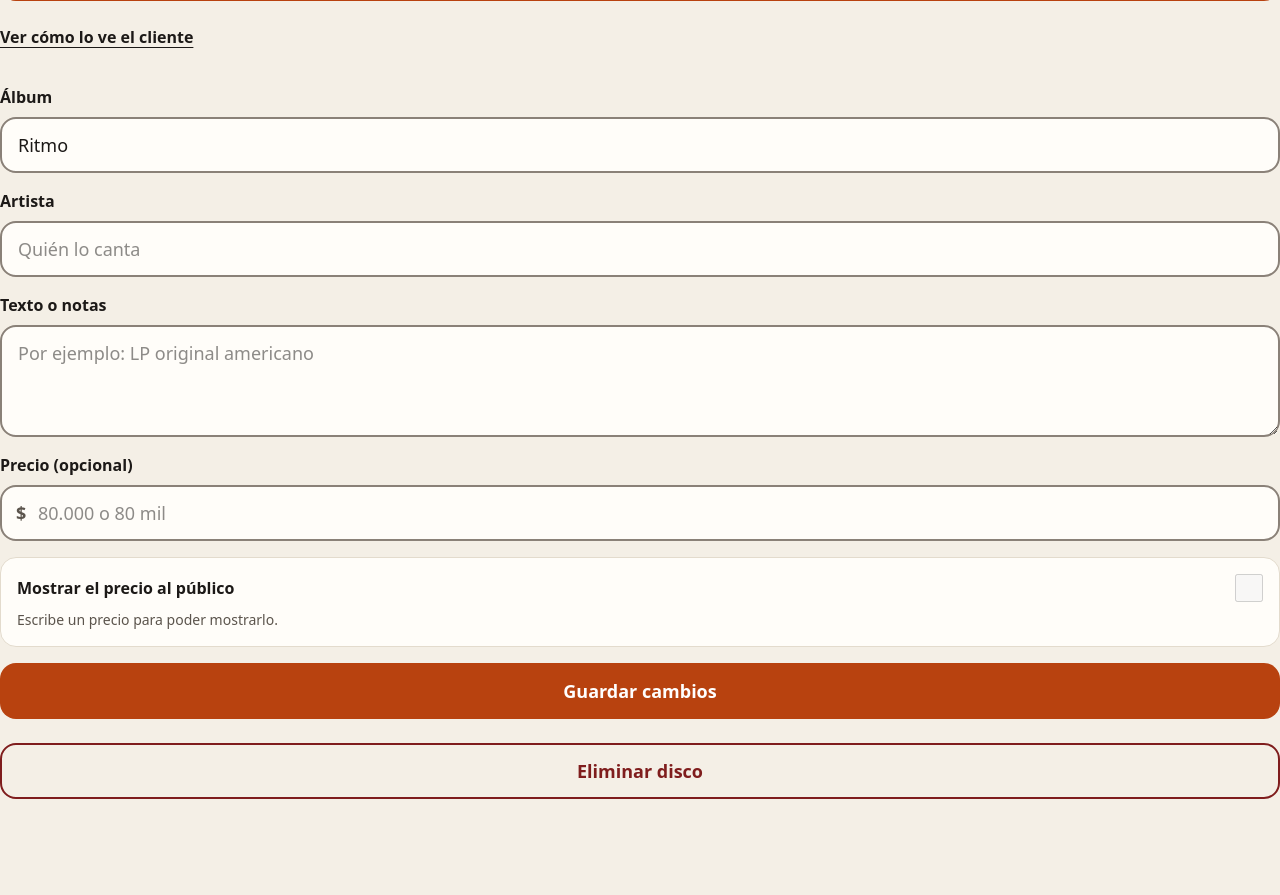
Test: RecordDetail › deleting the record › stays on the screen and explains when it could not be deleted
(page scrolled)
What coordinates should you click on to do the following:
click the button "Eliminar disco"
I would click on:
 (640, 771)
Its box is [0,743,1279,799].
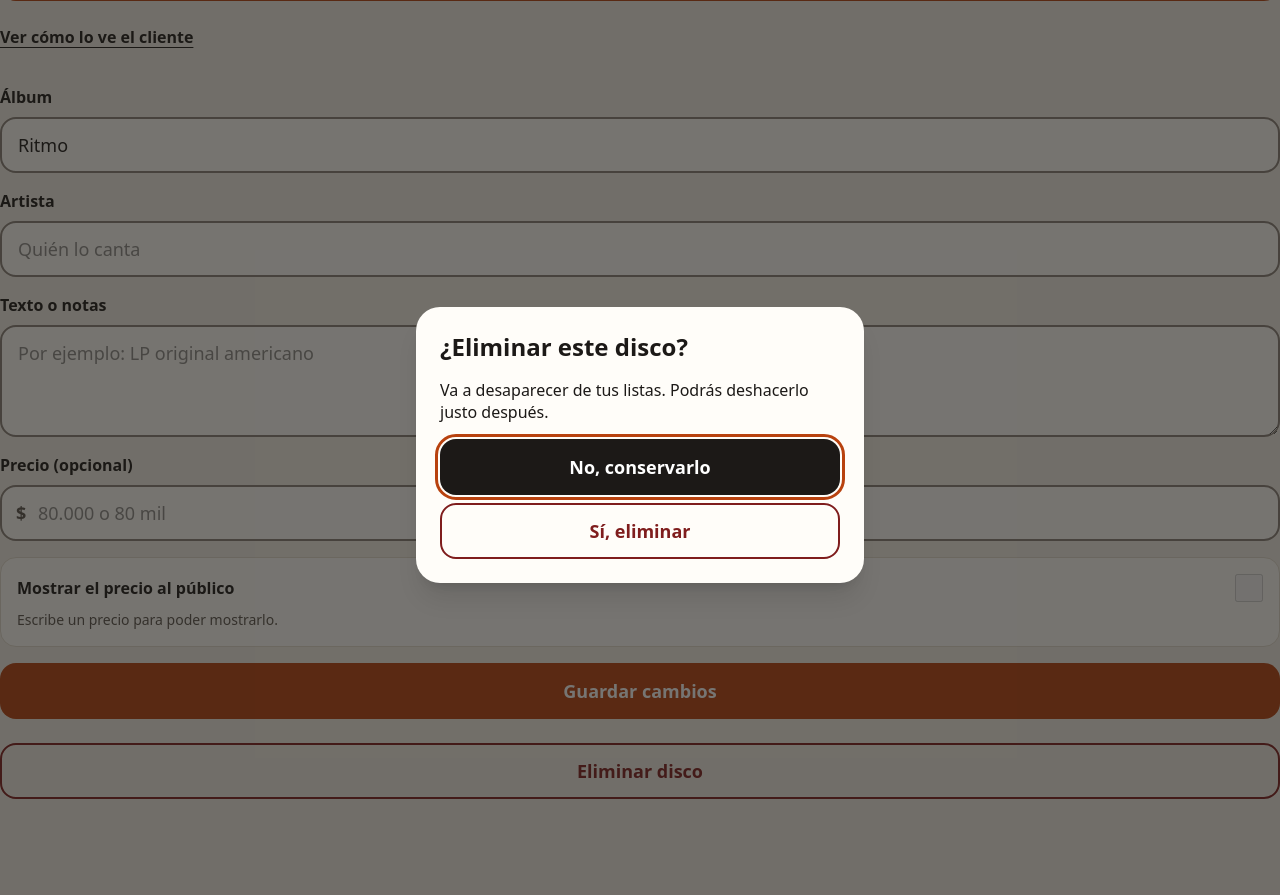
What coordinates should you click on to do the following:
click the button "Sí, eliminar"
I would click on:
 (640, 531)
Its box is [440,503,840,559].
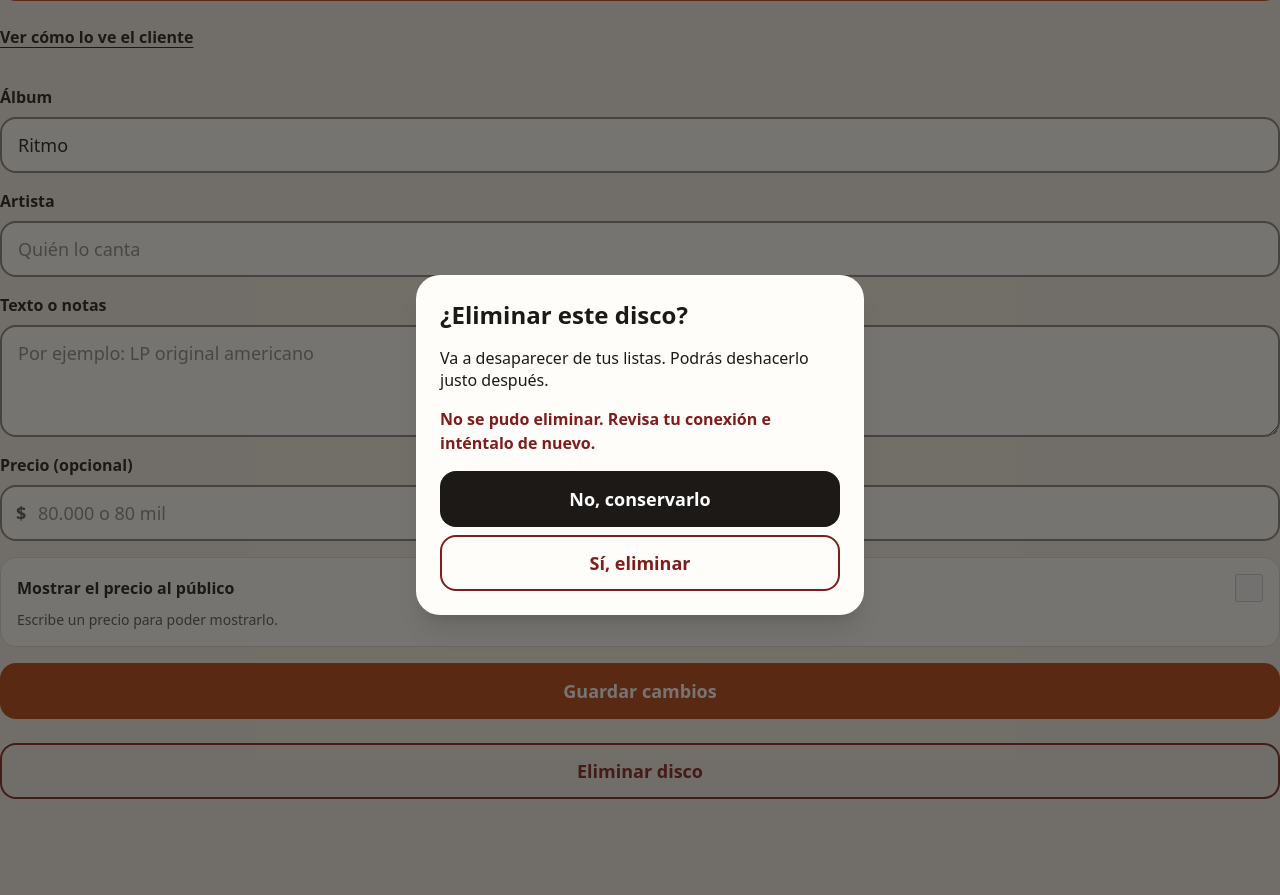
Expected: the dialog is shown, [416,275,864,615]
Expected: the text "No se pudo eliminar. Revisa tu conexión e inténtalo de nuevo." is shown, [440,408,771,454]
